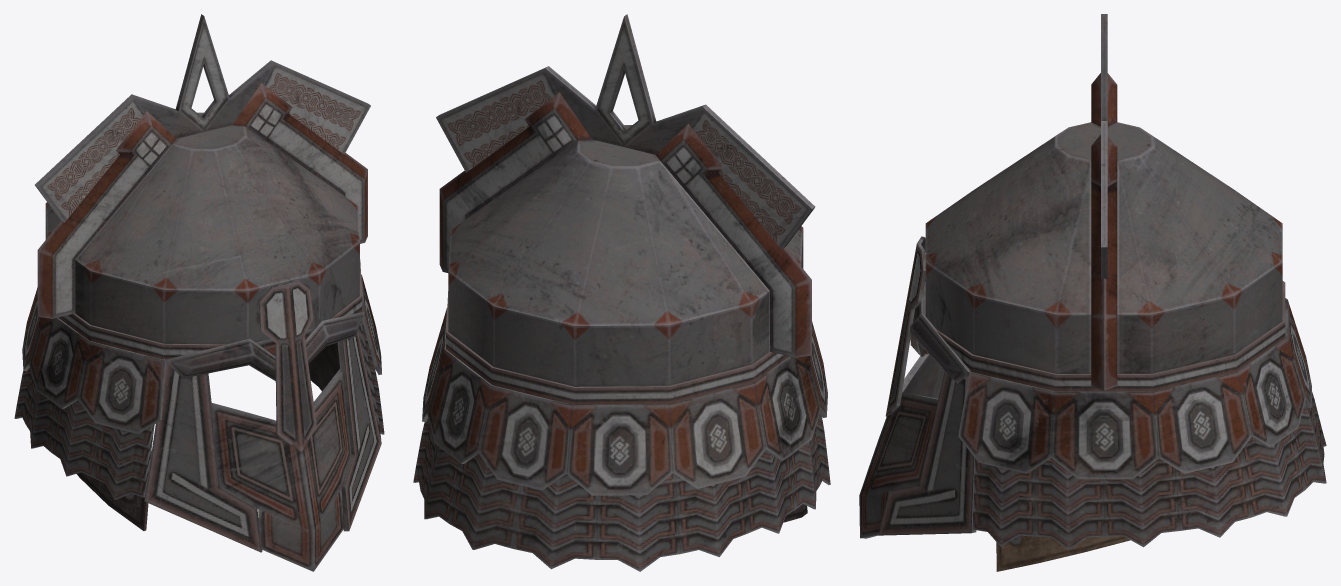
Rendered from sk_dwarf_iron_helmet_elite_c2.fbx.
The picture shows the model from 3 angles, left to right: view 1: azimuth 30°, elevation 25°; view 2: azimuth 150°, elevation 25°; view 3: azimuth 270°, elevation 25°; orthographic projection. The views are drawn at different scales.
Parts seen in each view (by area): view 1: sk_dwarf_iron_helmet_elite_c2.0, sk_dwarf_iron_helmet_elite_c2.1; view 2: sk_dwarf_iron_helmet_elite_c2.0, sk_dwarf_iron_helmet_elite_c2.1; view 3: sk_dwarf_iron_helmet_elite_c2.0, sk_dwarf_iron_helmet_elite_c2.1.
Part boxes in pixels (box(x1,y1,x2,y2)): sk_dwarf_iron_helmet_elite_c2.0: box(14, 83, 384, 571); sk_dwarf_iron_helmet_elite_c2.1: box(35, 14, 370, 530); sk_dwarf_iron_helmet_elite_c2.0: box(413, 92, 830, 571); sk_dwarf_iron_helmet_elite_c2.1: box(436, 14, 815, 522); sk_dwarf_iron_helmet_elite_c2.0: box(859, 73, 1326, 550); sk_dwarf_iron_helmet_elite_c2.1: box(996, 14, 1130, 571).
Bounding box in the file's own units: 0.3245 × 0.3572 × 0.4424.
